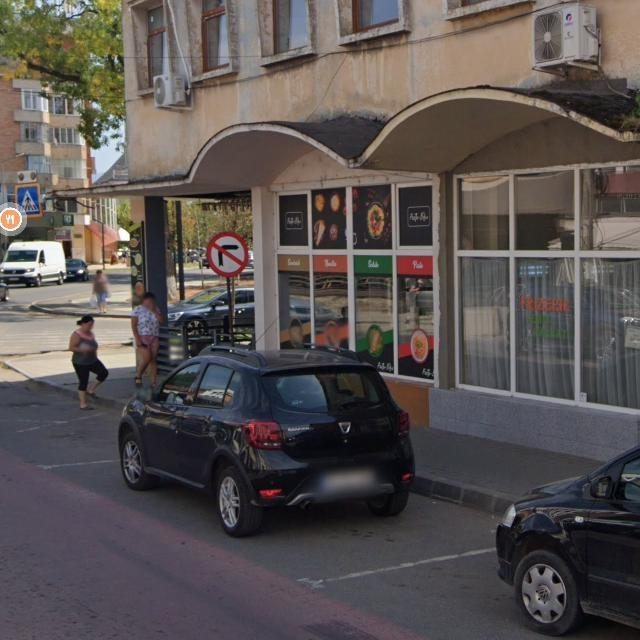info_crosswalk: (15, 184, 44, 218)
prio_give_way: (8, 534, 494, 640)
